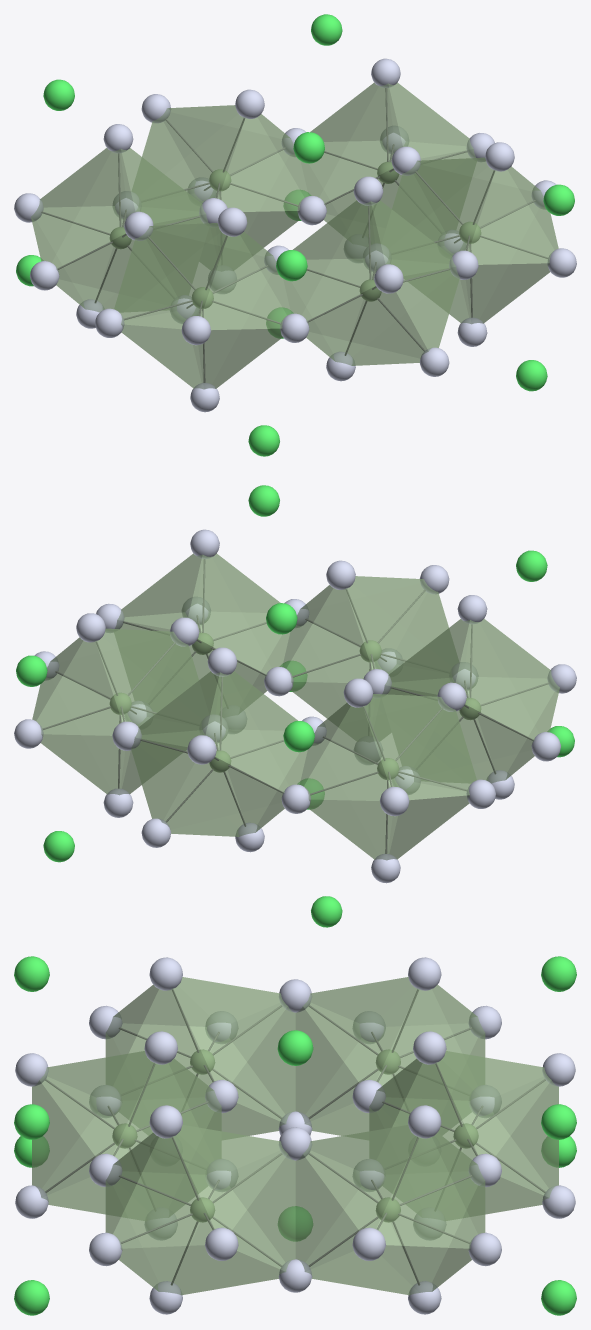
File: BaEr2F8.glb
3 renders of one model, top to bottom at view 1: azimuth 30°, elevation 25°; view 2: azimuth 150°, elevation 25°; view 3: azimuth 270°, elevation 25°, orthographic. The views are drawn at different scales.
Visible parts, largest first — view 1: Shape_IndexedFaceSet, atom2_IndexedFaceSet, atom0_IndexedFaceSet, Shape_Cylinder, atom1_IndexedFaceSet; view 2: Shape_IndexedFaceSet, atom2_IndexedFaceSet, atom0_IndexedFaceSet, Shape_Cylinder, atom1_IndexedFaceSet; view 3: Shape_IndexedFaceSet, atom2_IndexedFaceSet, atom0_IndexedFaceSet, Shape_Cylinder, atom1_IndexedFaceSet.
Part boxes in pixels (x1=…): Shape_IndexedFaceSet: x1=31, y1=82, x2=558, y2=389; atom2_IndexedFaceSet: x1=14, y1=58, x2=576, y2=412; atom0_IndexedFaceSet: x1=16, y1=14, x2=574, y2=456; Shape_Cylinder: x1=41, y1=88, x2=547, y2=382; atom1_IndexedFaceSet: x1=109, y1=162, x2=481, y2=309; Shape_IndexedFaceSet: x1=32, y1=553, x2=559, y2=860; atom2_IndexedFaceSet: x1=14, y1=529, x2=576, y2=883; atom0_IndexedFaceSet: x1=16, y1=485, x2=574, y2=927; Shape_Cylinder: x1=42, y1=559, x2=549, y2=853; atom1_IndexedFaceSet: x1=109, y1=632, x2=481, y2=780; Shape_IndexedFaceSet: x1=32, y1=977, x2=558, y2=1295; atom2_IndexedFaceSet: x1=15, y1=957, x2=575, y2=1314; atom0_IndexedFaceSet: x1=14, y1=956, x2=576, y2=1315; Shape_Cylinder: x1=45, y1=989, x2=545, y2=1285; atom1_IndexedFaceSet: x1=112, y1=1049, x2=478, y2=1222.
Size of the model in its own units: 12.04 by 4.9 by 11.2.
